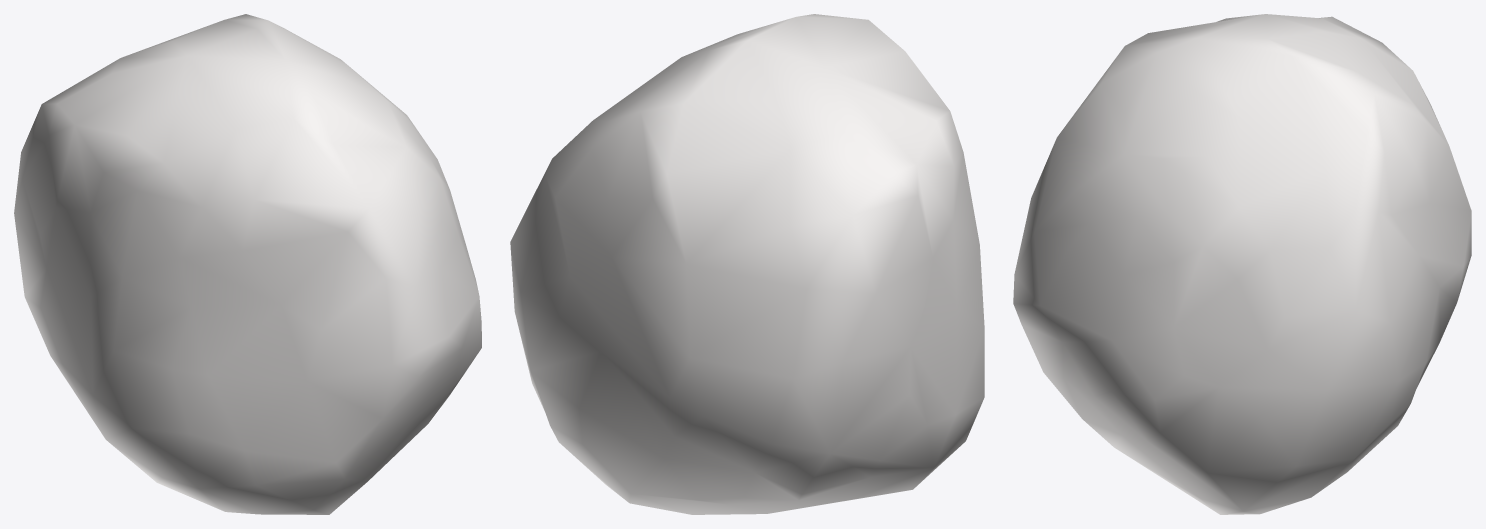
File: Snow_001.fbx
3 views of the same model, side by side, from view 1: azimuth 30°, elevation 25°; view 2: azimuth 150°, elevation 25°; view 3: azimuth 270°, elevation 25° (orthographic). The views are drawn at different scales.
Parts seen in each view (by area): view 1: Snow_001; view 2: Snow_001; view 3: Snow_001.
Boxes of the visible parts, x1=… form: Snow_001: x1=14, y1=14, x2=481, y2=514; Snow_001: x1=510, y1=14, x2=984, y2=514; Snow_001: x1=1013, y1=14, x2=1471, y2=514.
Size of the model in its own units: 0.9513 by 1.1 by 1.03.
